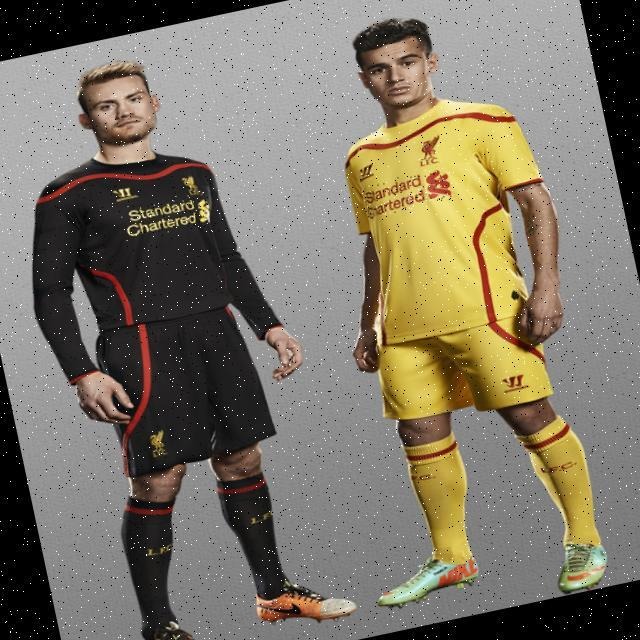Nike: (262, 593, 298, 620)
Standard Chartered: (118, 190, 212, 242), (359, 167, 452, 219)
